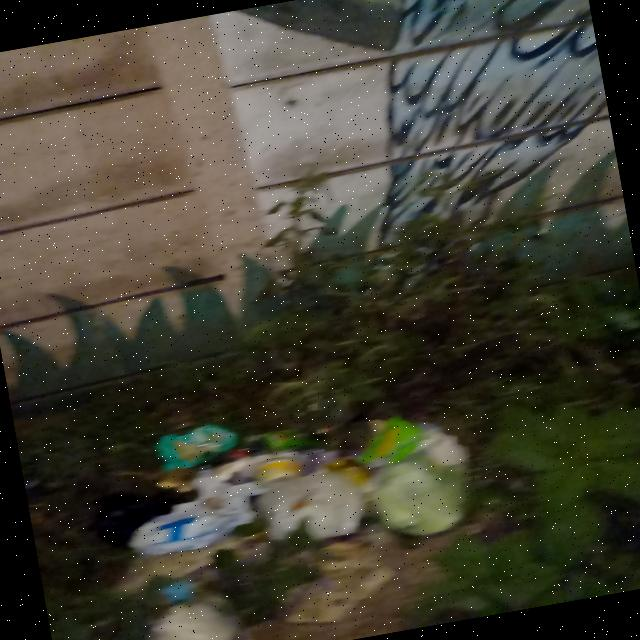garbage: (70, 353, 523, 640)
